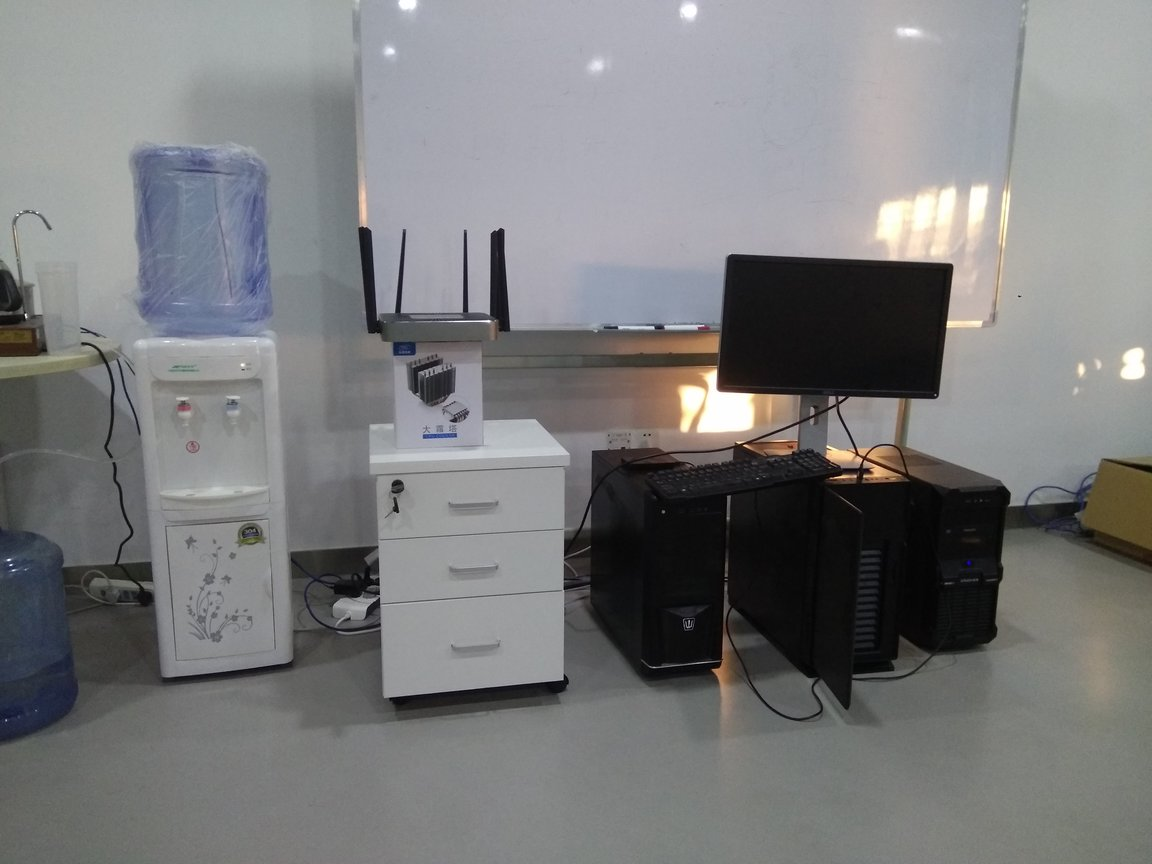computer: (732, 429, 912, 707), (585, 439, 726, 697), (863, 442, 1004, 655)
drawer chest: (361, 411, 583, 708)
monitor: (702, 230, 961, 465)
scuttlebutt: (115, 133, 287, 342), (2, 524, 77, 749)
water dispenser: (128, 328, 317, 680)
